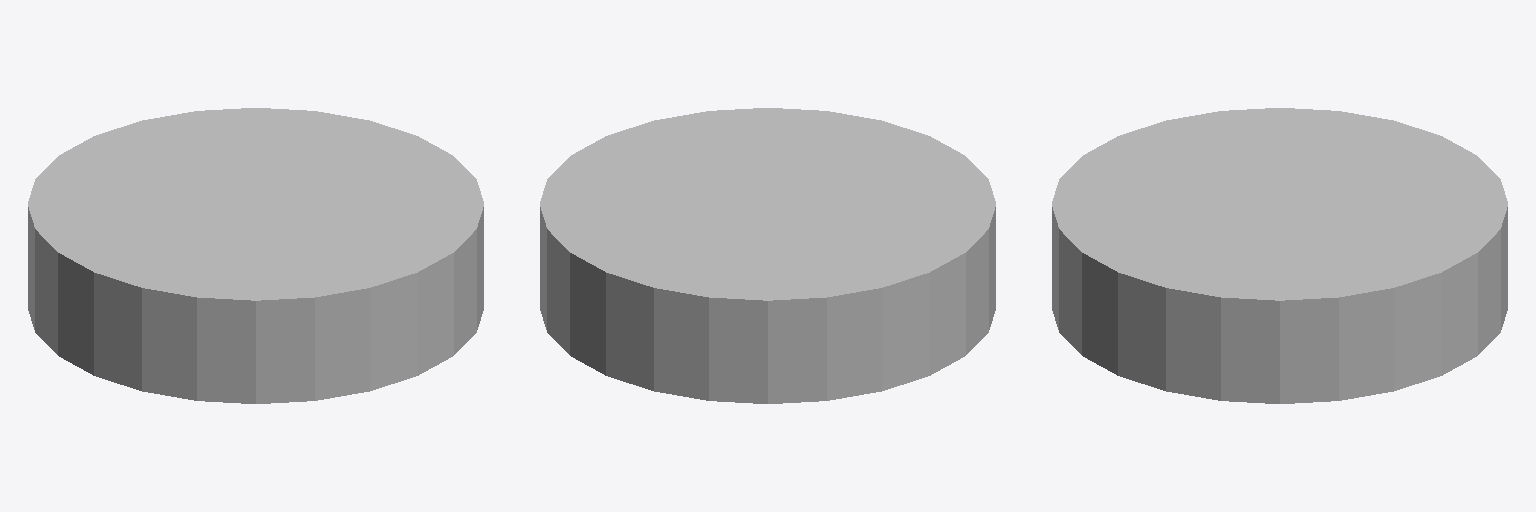
Rendered from original-67.obj.
The picture shows the model from 3 angles: view 1: azimuth 30°, elevation 25°; view 2: azimuth 150°, elevation 25°; view 3: azimuth 270°, elevation 25°; orthographic projection.
Visible parts, largest first — view 1: group_32/ID427#ID427; view 2: group_32/ID427#ID427; view 3: group_32/ID427#ID427.
Boxes of the visible parts, x1=… form: group_32/ID427#ID427: x1=28, y1=108, x2=483, y2=403; group_32/ID427#ID427: x1=540, y1=108, x2=995, y2=403; group_32/ID427#ID427: x1=1052, y1=108, x2=1507, y2=403.
Bounding box in the file's own units: 0.0602 × 0.015 × 0.0602.